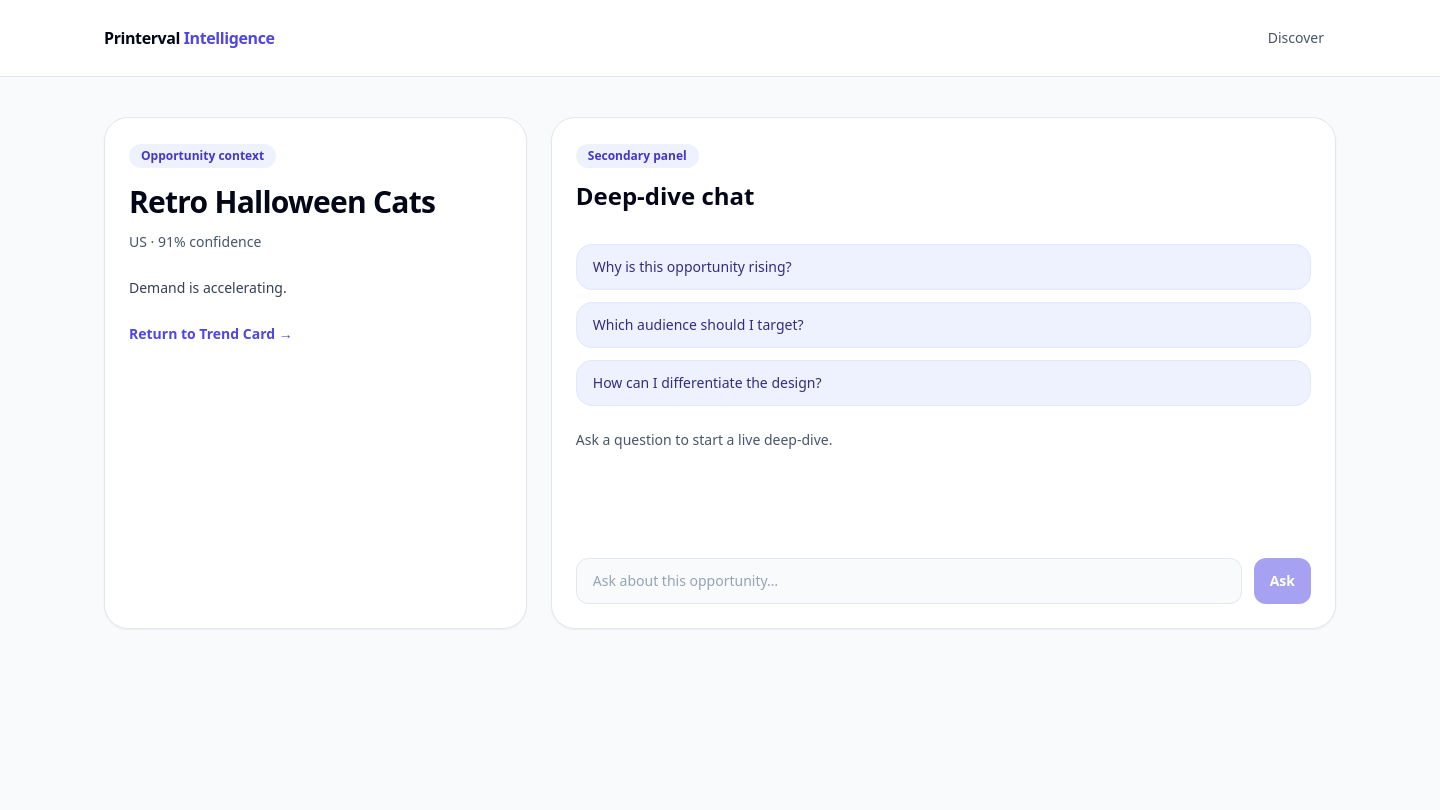
Test: DeepDiveScreen › starts a distinct live turn for each submitted question
Type "What signals support this trend?" into the field with placeholder "Ask about this opportunity…" at [909, 581], box [576,558,1242,604]
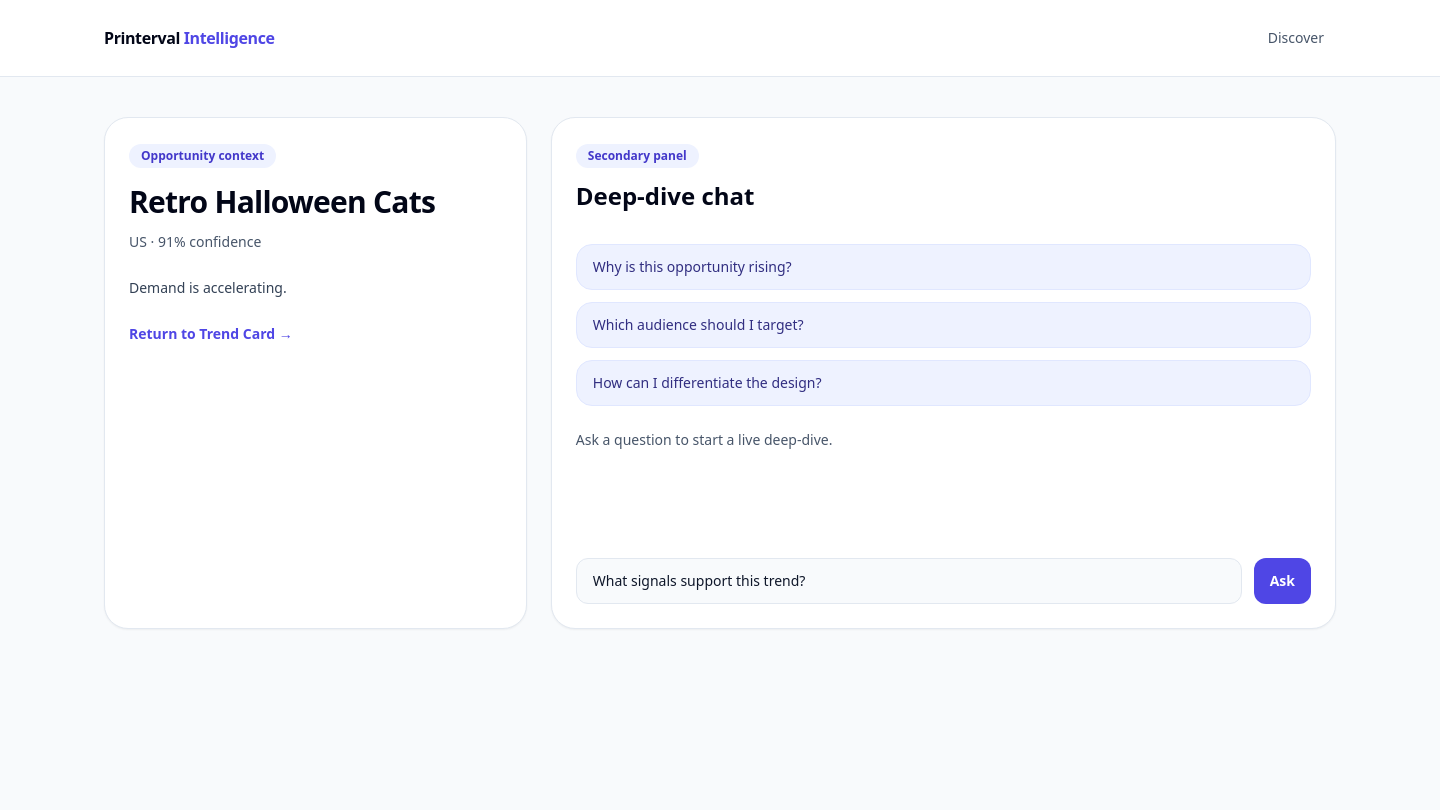
Click the button "Ask" at [1282, 581], box [1254,558,1311,604]
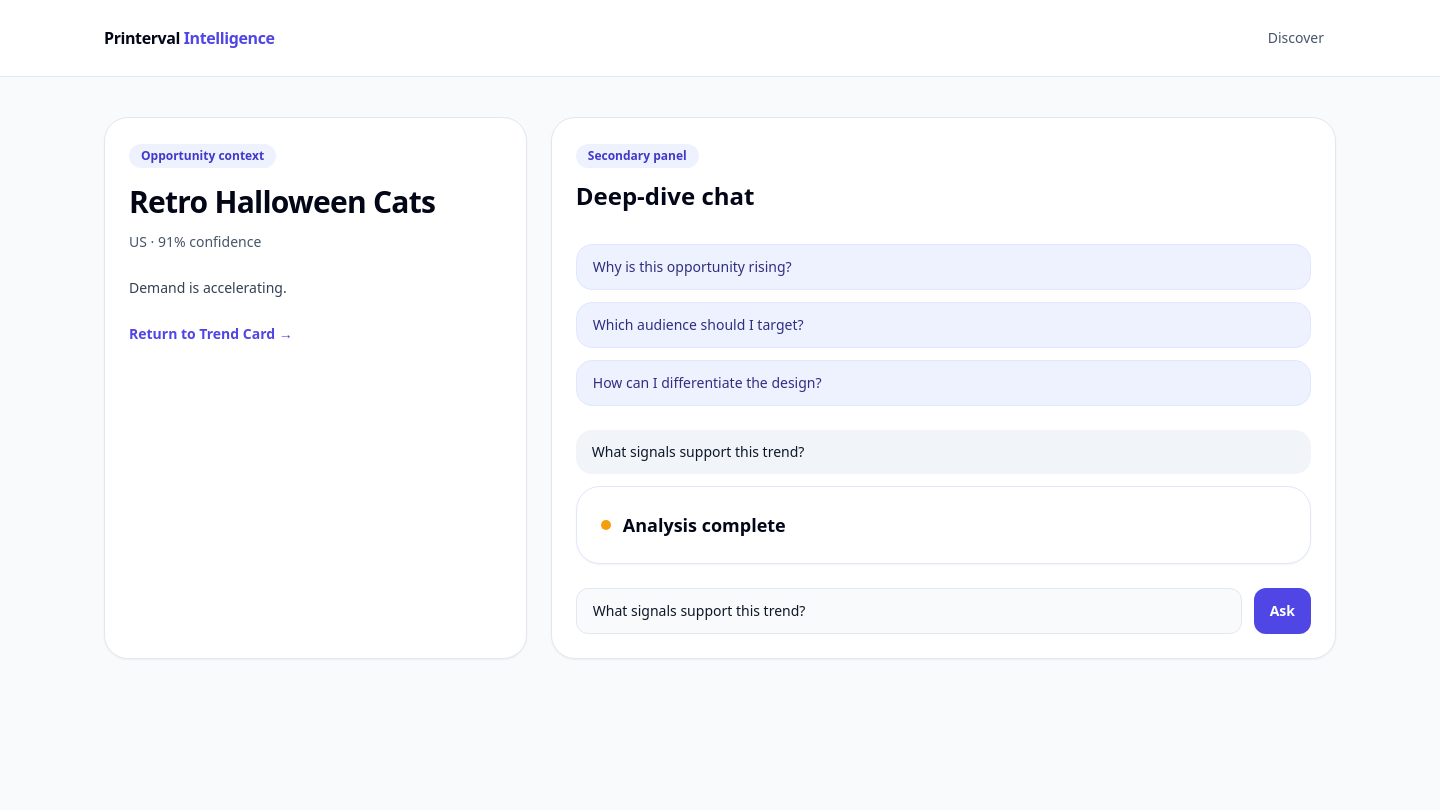
Check: the heading "Analysis complete" is shown, box [623,511,786,539]
Replace the text in the field with placeholder "Ask about this opportunity…" with "How should I position the follow-up design?" at [909, 611], box [576,588,1242,634]
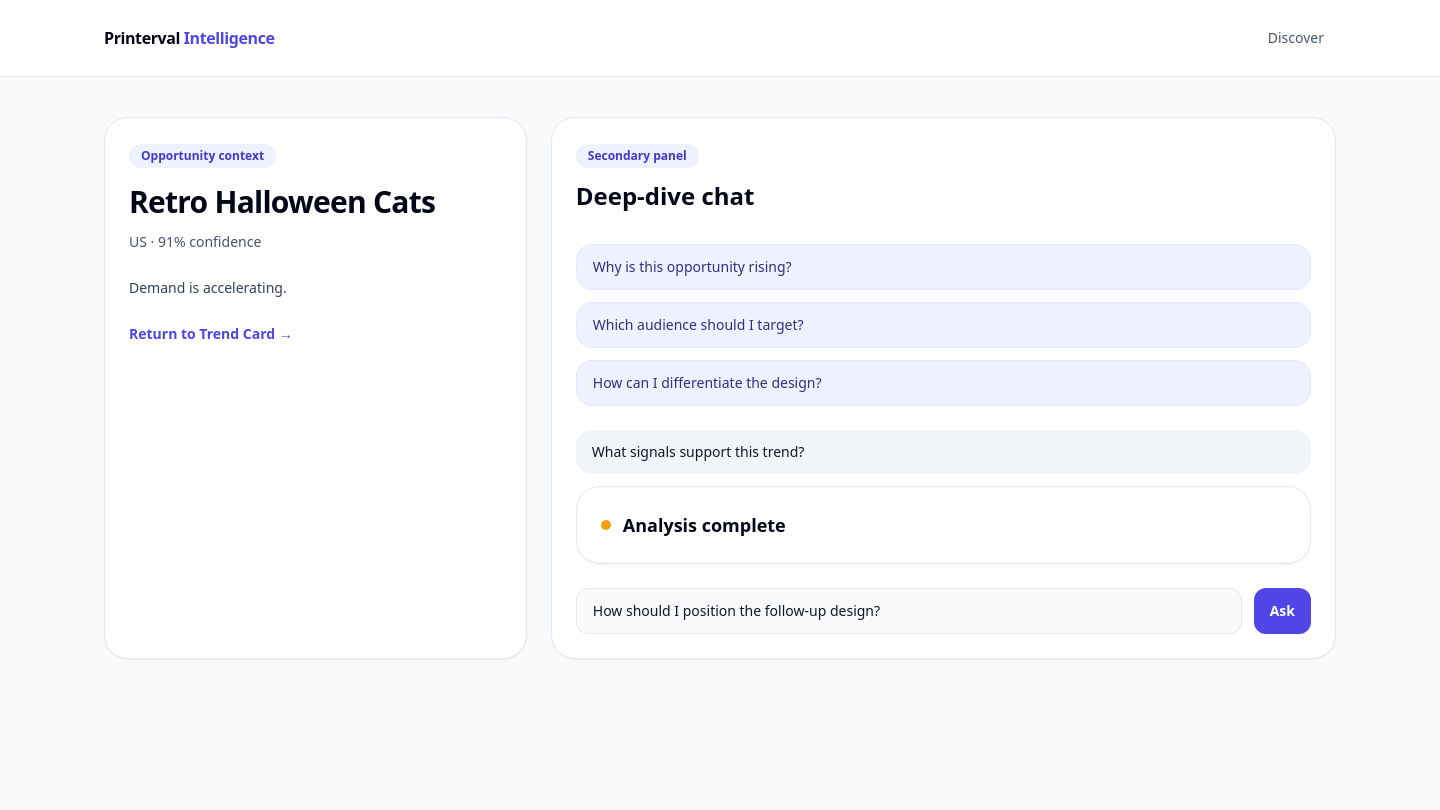
Click the button "Ask" at [1282, 611], box [1254,588,1311,634]
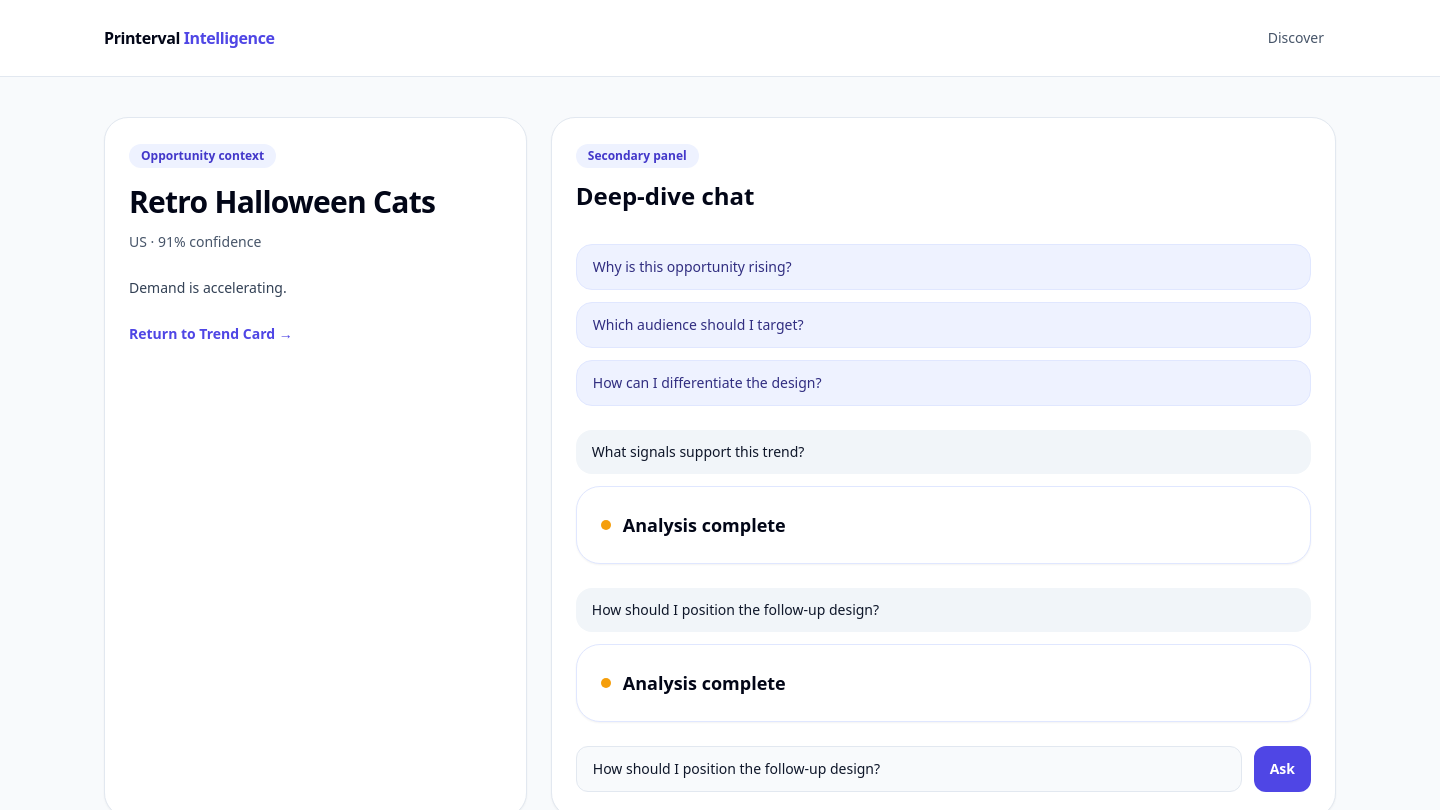
Check: the text "What signals support this trend?" is shown, box [576,430,1311,474]
Check: the text "How should I position the follow-up design?" is shown, box [576,588,1311,632]
